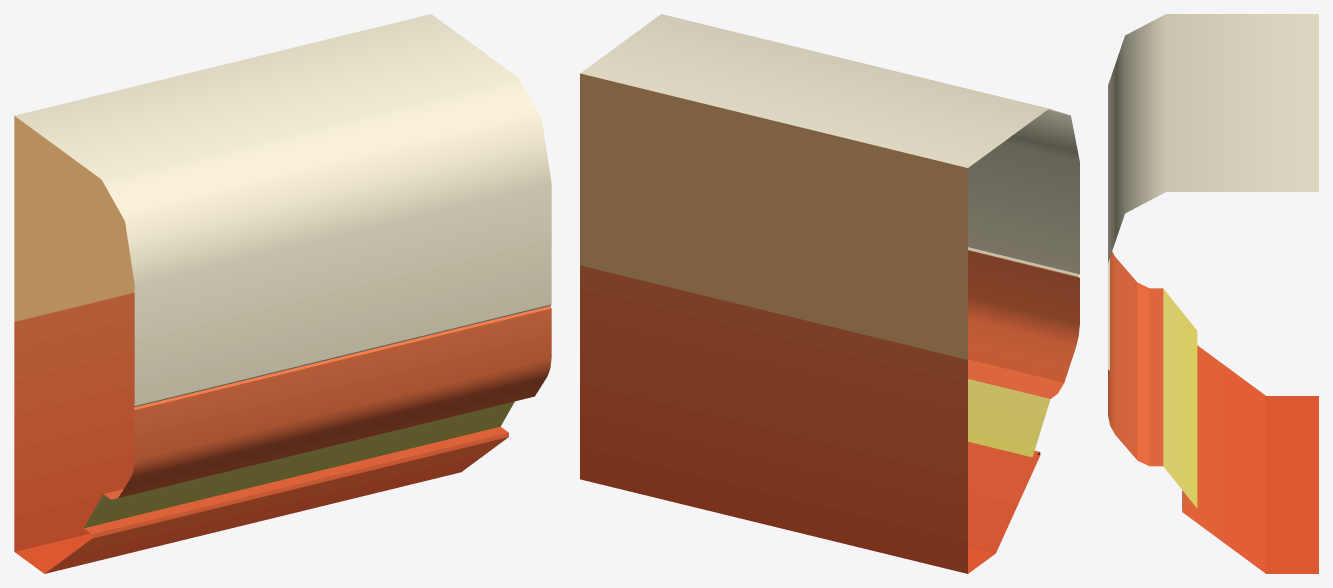
Rendered from sm_futuristic_horizontalseparator_middle.fbx.
3 renders of one model, left to right at view 1: azimuth 30°, elevation 25°; view 2: azimuth 150°, elevation 25°; view 3: azimuth 270°, elevation 25°, orthographic. The views are drawn at different scales.
Visible parts, largest first — view 1: sm_futuristic_horizontalseparator_middle; view 2: sm_futuristic_horizontalseparator_middle; view 3: sm_futuristic_horizontalseparator_middle.
Boxes of the visible parts, x1,y1,x2,y2 form: sm_futuristic_horizontalseparator_middle: [14, 14, 551, 573]; sm_futuristic_horizontalseparator_middle: [580, 14, 1079, 573]; sm_futuristic_horizontalseparator_middle: [1108, 14, 1318, 573].
Bounding box in the file's own units: 100 × 50 × 100.
